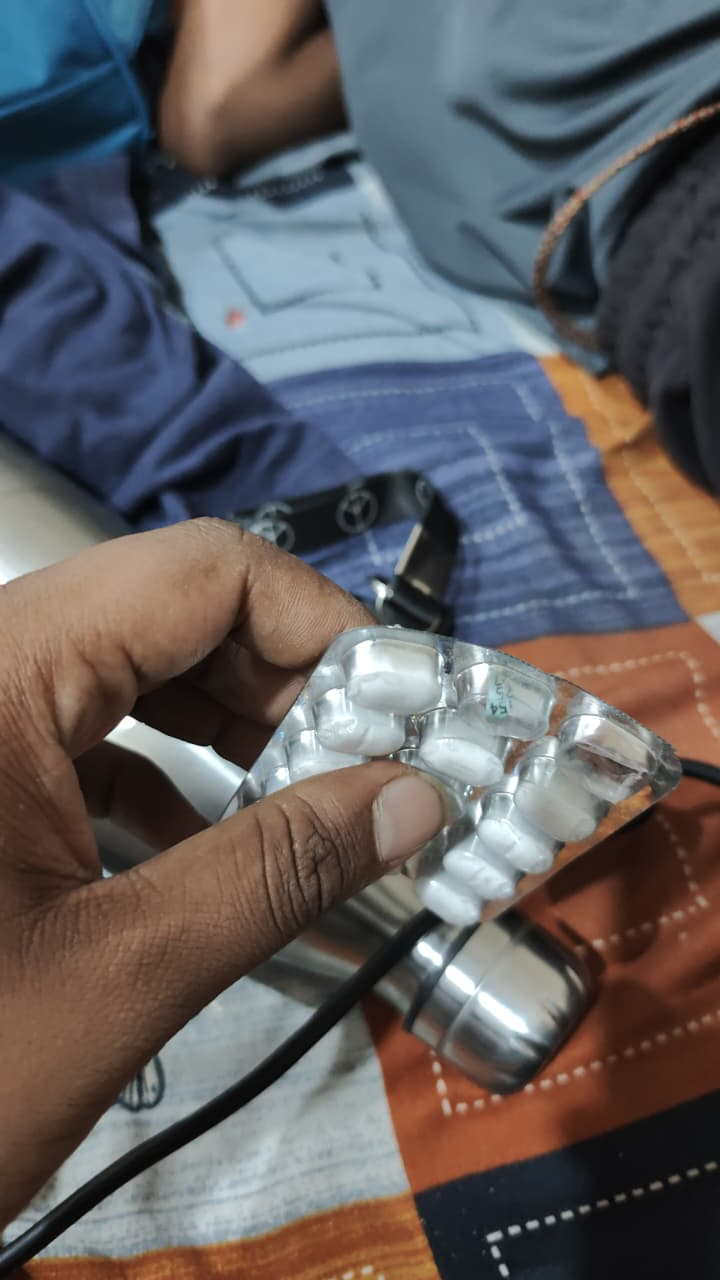MedicineStrip: (300, 615, 720, 921)
